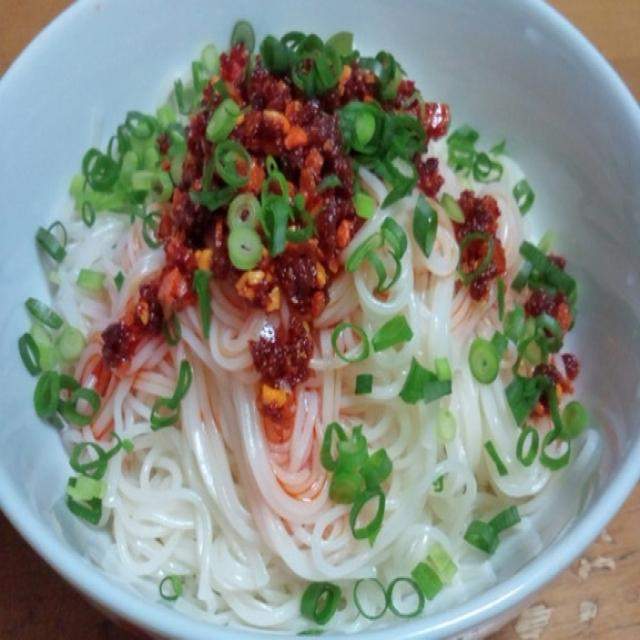面条主食: (10, 13, 629, 631)
